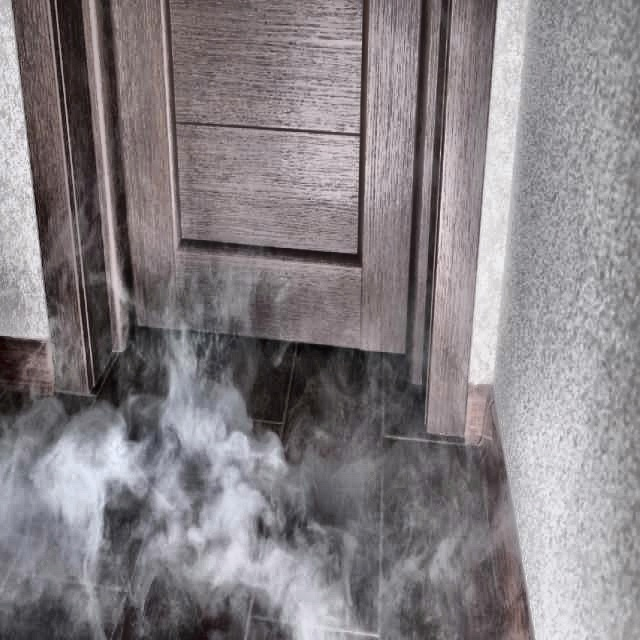smoke: (0, 372, 277, 638)
